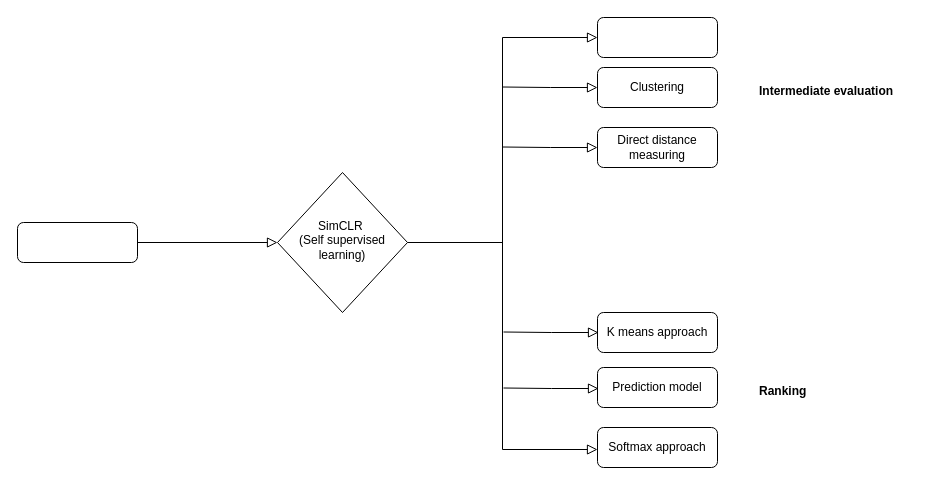
The diagram is 945 pixels wide and 485 high, and some of its shapes have lost their labels. The shapes that lost their labels are listed below. From the top down, each one's centre as x and y in pixels, then its label:
At [657,37]: "Classification".
At [77,242]: "Original image".
